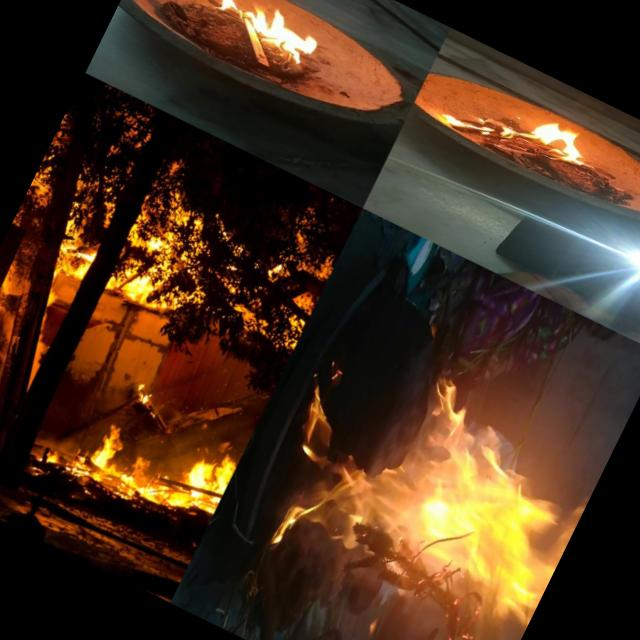fire: (365, 304, 640, 640), (438, 75, 606, 192), (70, 412, 176, 512), (202, 0, 336, 75), (0, 223, 43, 371), (172, 436, 242, 516)
